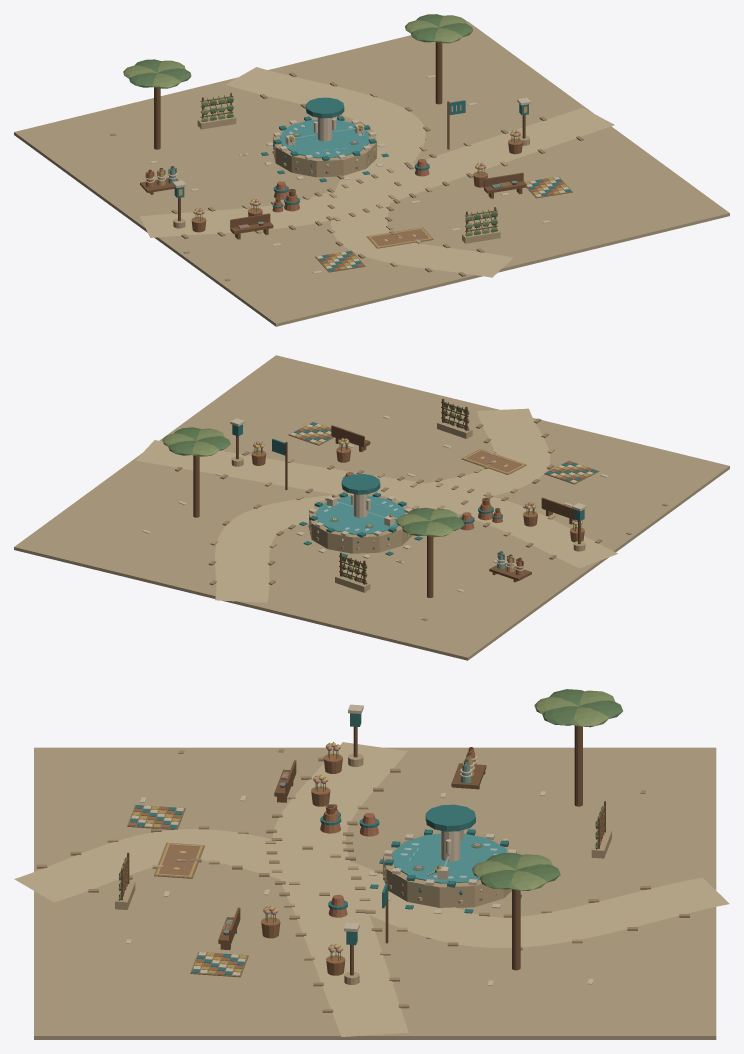
File: city-fountain.glb
The picture shows the model from 3 angles, top to bottom: view 1: azimuth 30°, elevation 25°; view 2: azimuth 150°, elevation 25°; view 3: azimuth 270°, elevation 25°; orthographic projection. The views are drawn at different scales.
Visible parts, largest first — view 1: city-fountain; view 2: city-fountain; view 3: city-fountain.
Boxes of the visible parts, left/top/right/bottom form: city-fountain: left=14, top=14, right=729, bottom=326; city-fountain: left=14, top=355, right=729, bottom=660; city-fountain: left=14, top=689, right=729, bottom=1039.
Bounding box in the file's own units: 32.74 × 5.44 × 33.58.
